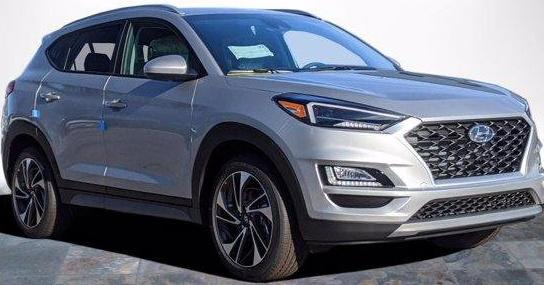SUV: (1, 6, 544, 282)
